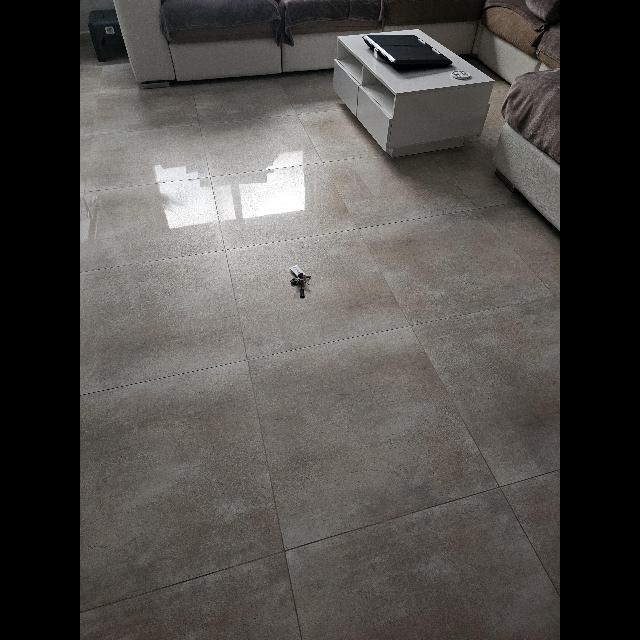Keys: (288, 265, 310, 299)
